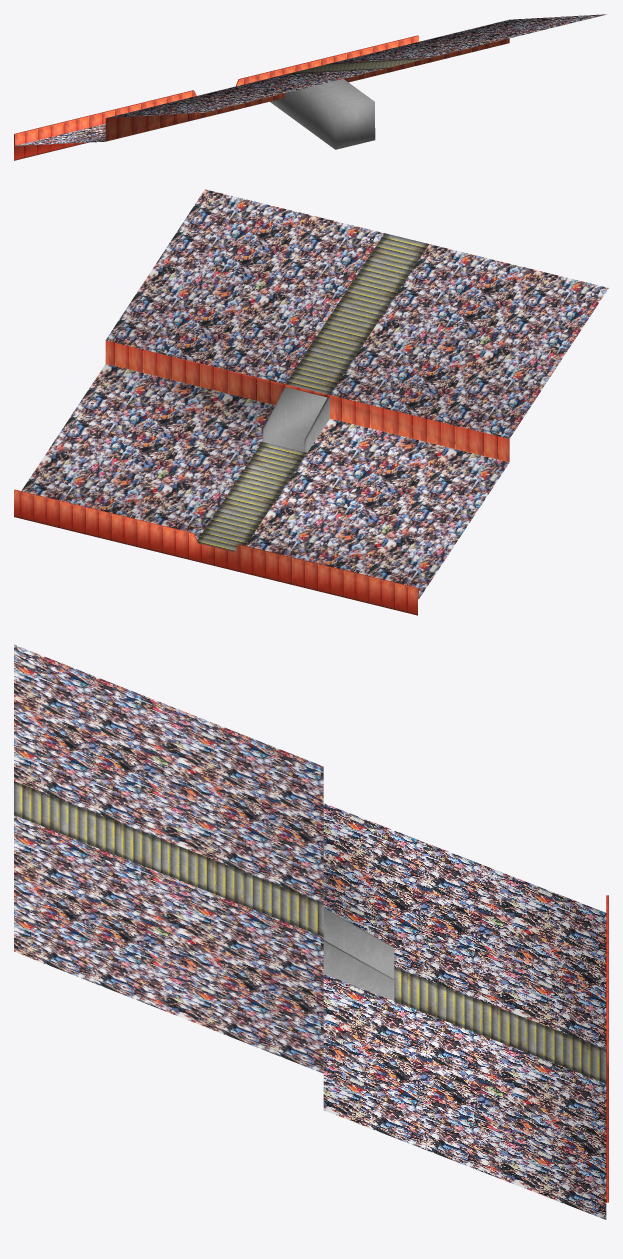
File: tribune_double.fbx
3 views of the same model, one above another, from view 1: azimuth 30°, elevation 25°; view 2: azimuth 150°, elevation 25°; view 3: azimuth 270°, elevation 25° (orthographic). The views are drawn at different scales.
Parts seen in each view (by area): view 1: Cube_002; view 2: Cube_002; view 3: Cube_002.
Boxes of the visible parts, <box> form: Cube_002: <box>14,14,606,160</box>; Cube_002: <box>14,189,608,615</box>; Cube_002: <box>14,644,608,1219</box>.
Size of the model in its own units: 54 by 24 by 44.2.
